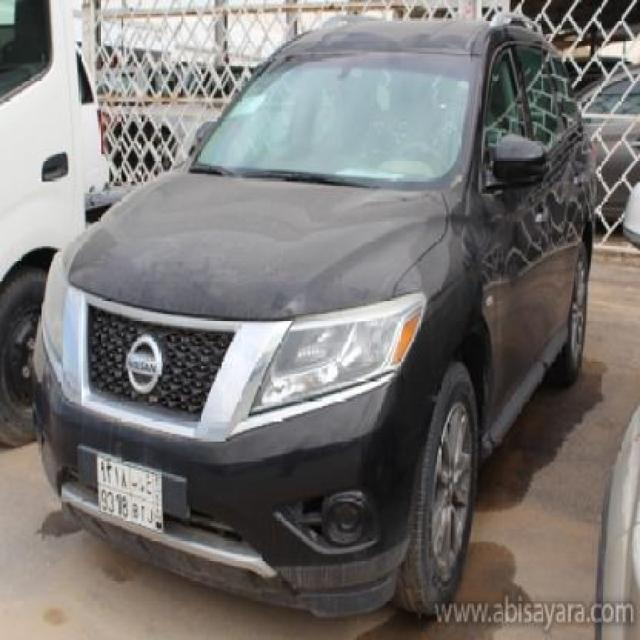license_plate: (96, 452, 164, 536)
